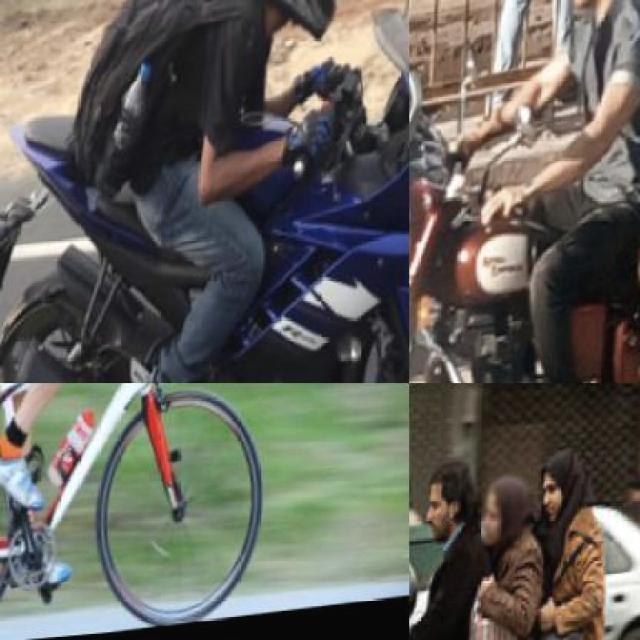With Helmet: (238, 0, 352, 51)
Without Helmet: (423, 458, 480, 551), (480, 469, 540, 557), (540, 456, 595, 538), (555, 0, 637, 28)
